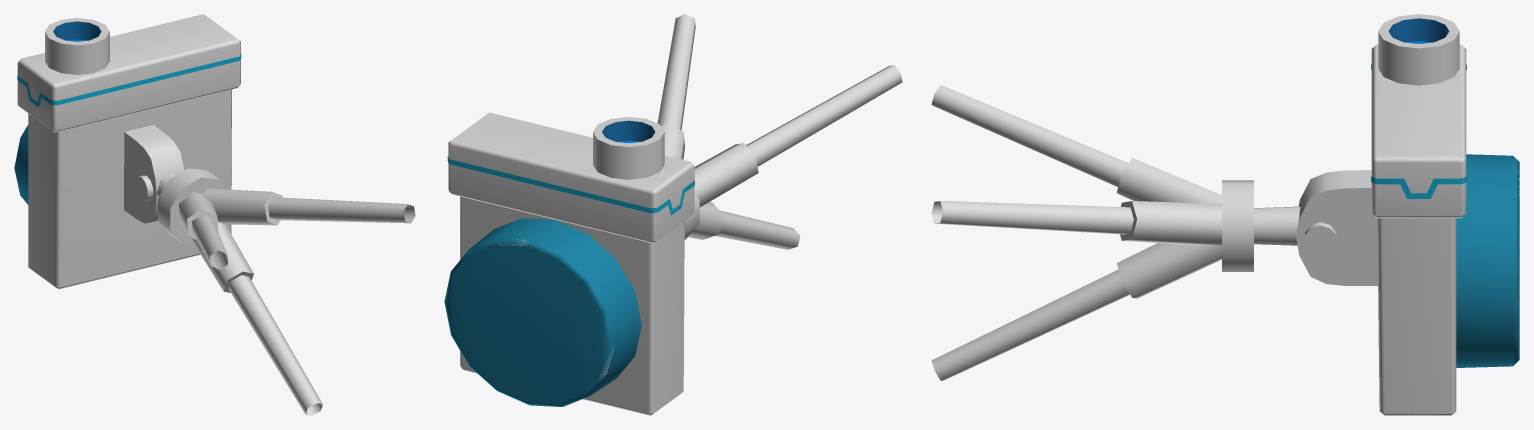
The model's file is EpfProjector.fbx.
3 views of the same model, side by side, from view 1: azimuth 30°, elevation 25°; view 2: azimuth 150°, elevation 25°; view 3: azimuth 270°, elevation 25° (orthographic). The views are drawn at different scales.
Parts seen in each view (by area): view 1: EpfProjector; view 2: EpfProjector; view 3: EpfProjector.
Part boxes in pixels (<box>): EpfProjector: <box>14,14,415,415</box>; EpfProjector: <box>444,14,902,415</box>; EpfProjector: <box>931,14,1519,415</box>.
Bounding box in the file's own units: 51.53 × 61.67 × 102.
